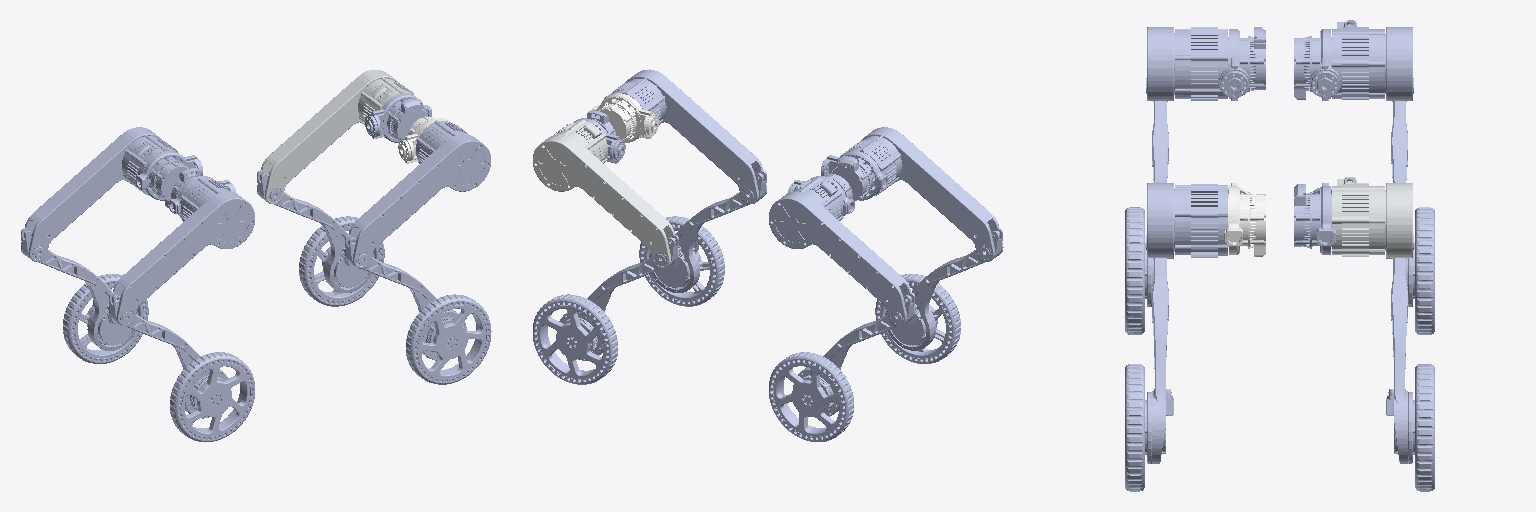
robot.urdf — dogurdf:
<?xml version="1.0" encoding="utf-8"?>
<!-- This URDF was automatically created by SolidWorks to URDF Exporter! Originally created by Stephen Brawner (brawner@gmail.com) 
     Commit Version: 1.6.0-4-g7f85cfe  Build Version: 1.6.7995.38578
     For more information, please see http://wiki.ros.org/sw_urdf_exporter -->
<robot name="dogurdf">
  <mujoco>
    <compiler 
    meshdir="../meshes" 
    balanceinertia="true" 
    discardvisual="false" />
  </mujoco>
  <link name="base_link">
    <inertial>
      <origin
        xyz="-1.3976E-10 -4.0594E-11 -4.0153E-07"
        rpy="0 0 0" />
      <mass
        value="1.97" />
      <inertia
        ixx="0.0145439"
        ixy="0.0000000"
        ixz="0.0000000"
        iyy="0.1226355"
        iyz="0.0000000"
        izz="0.1326036" />
    </inertial>
    <visual>
      <origin
        xyz="0 0 0"
        rpy="0 0 0" />
      <geometry>
        <mesh
          filename="../meshes/base_link.STL" />
      </geometry>
      <material
        name="">
        <color
          rgba="0.75294 0.75294 0.75294 1" />
      </material>
    </visual>
    <collision>
      <origin
        xyz="0 0 0"
        rpy="0 0 0" />
      <geometry>
        <box size="0.474 0.25 0.12"/>
      </geometry>
    </collision>
  </link>
  <link
    name="FL_hip_link">
    <inertial>
      <origin
        xyz="-0.00965589810794835 -0.00827404124492533 0.00195207626256536"
        rpy="0 0 0" />
      <mass
        value="0.297183995023675" />
      <inertia
        ixx="0.0004086"
        ixy="-0.0000025"
        ixz="0.0000000"
        iyy="0.0007925"
        iyz="0.0000258"
        izz="0.0006789" />
    </inertial>
    <visual>
      <origin
        xyz="0 0 0"
        rpy="0 0 0" />
      <geometry>
        <mesh
          filename="../meshes/FL_hip_link.STL" />
      </geometry>
      <material
        name="">
        <color
          rgba="0.792156862745098 0.819607843137255 0.933333333333333 1" />
      </material>
    </visual>
    <collision>
      <origin xyz="0 -0.02 0" rpy="1.5708 0 0"/>
      <geometry>
        <cylinder length="0.06" radius="0.0615"/>
      </geometry>
    </collision>
  </link>
  <joint
    name="FL_hip_joint"
    type="revolute">
    <origin
      xyz="0.3265 0.08 0"
      rpy="0 0 0" />
    <parent
      link="base_link" />
    <child
      link="FL_hip_link" />
    <axis
      xyz="1 0 0" />
    <limit
      lower="-0.6"
      upper="0.6"
      effort="300"
      velocity="14" />
  </joint>
  <link
    name="FL_thigh_link">
    <inertial>
      <origin
        xyz="-0.00631688095134576 -0.0499255635102069 -0.0351010430050288"
        rpy="0 0 0" />
      <mass
        value="1.70741357089892" />
      <inertia
        ixx="0.0228508"
        ixy="-0.0000682"
        ixz="-0.0018050"
        iyy="0.0175783"
        iyz="0.0000058"
        izz="0.0091144" />
    </inertial>
    <visual>
      <origin
        xyz="0 0 0"
        rpy="0 0 0" />
      <geometry>
        <mesh
          filename="../meshes/FL_thigh_link.STL" />
      </geometry>
      <material
        name="">
        <color
          rgba="0.898039215686275 0.917647058823529 0.929411764705882 1" />
      </material>
    </visual>
    <collision>
      <origin xyz="0 -0.046 0" rpy="1.5708 0 0"/>
      <geometry>
        <cylinder length="0.145" radius="0.07"/>
      </geometry>
    </collision>
    <collision>
      <origin xyz="-0.03 0.0 -0.145" rpy="0 0 0"/>
      <geometry>
        <box size="0.064 0.045 0.30"/>
      </geometry>
    </collision>
  </link>
  <joint
    name="FL_thigh_joint"
    type="revolute">
    <origin
      xyz="0 0.1308 0"
      rpy="0 1.0197 0" />
    <parent
      link="FL_hip_link" />
    <child
      link="FL_thigh_link" />
    <axis
      xyz="0 1 0" />
    <limit
      lower="-0.7"
      upper="1.75"
      effort="300"
      velocity="14" />
  </joint>
  <link
    name="FL_calf_link">
    <inertial>
      <origin
        xyz="-0.061645 0.0071922 -0.21635"
        rpy="0 0 0" />
      <mass
        value="0.47973" />
      <inertia
        ixx="0.0086128"
        ixy="0.00015398"
        ixz="-0.0027346"
        iyy="0.0098559"
        iyz="0.00036852"
        izz="0.0014602" />
    </inertial>
    <visual>
      <origin
        xyz="0 0 0"
        rpy="0 0 0" />
      <geometry>
        <mesh
          filename="../meshes/FL_calf_link.STL" />
      </geometry>
      <material
        name="">
        <color
          rgba="0.79216 0.81961 0.93333 1" />
      </material>
    </visual>
    <collision>
      <origin xyz="-0.01 -0. -0.12" rpy="0 -0.0 0"/>
      <geometry>
        <cylinder length="0.15" radius="0.016"/>
      </geometry>
    </collision>
    <collision>
      <origin xyz="-0.045 0.0 -0.240" rpy="0 0.45 0"/>
      <geometry>
        <cylinder length="0.13" radius="0.015"/>
      </geometry>
    </collision>
    <collision>
      <origin rpy="1.5707963267948966 0 0" xyz="-0.105 0.0 -0.32" />
      <geometry>
        <cylinder length="0.045" radius="0.065" />
      </geometry>
    </collision>
  </link>
  <joint
    name="FL_calf_joint"
    type="revolute">
    <origin
      xyz="0 0 -0.34"
      rpy="3.1416 -1.0861 -3.1416" />
    <parent
      link="FL_thigh_link" />
    <child
      link="FL_calf_link" />
    <axis
      xyz="0 1 0" />
    <limit
      lower="-1"
      upper="0.35"
      effort="300"
      velocity="14" />
  </joint>
  <link
    name="FL_wheel_link">
    <inertial>
      <origin
        xyz="-1.56972520676257E-06 0.00208084771131467 9.86439635253245E-08"
        rpy="0 0 0" />
      <mass
        value="0.581037183184941" />
      <inertia
        ixx="0.00246783459869321"
        ixy="-1.2243566895124E-09"
        ixz="-1.10058304932711E-08"
        iyy="0.00482400804653926"
        iyz="-7.9405246712479E-10"
        izz="0.00246789059735698" />
    </inertial>
    <visual>
      <origin
        xyz="0 0 0"
        rpy="0 0 0" />
      <geometry>
        <mesh
          filename="../meshes/FL_wheel_link.STL" />
      </geometry>
      <material
        name="">
        <color
          rgba="0.792156862745098 0.819607843137255 0.933333333333333 1" />
      </material>
    </visual>
    <collision>
        <origin rpy="1.5707963267948966 0 0" xyz="0 0 0" /> 
      <geometry>
        <cylinder length="0.04" radius="0.113" />
      </geometry>
    </collision>
  </link>
  <joint
    name="FL_wheel_joint"
    type="revolute">
    <origin
      xyz="-0.10583 0.045 -0.32311"
      rpy="0 -0.21627 0" />
    <parent
      link="FL_calf_link" />
    <child
      link="FL_wheel_link" />
    <axis
      xyz="0 1 0" />
    <limit
      lower="-100000000000"
      upper="100000000000"
      effort="300"
      velocity="14" />
  </joint>
  <link
    name="FR_hip_link">
    <inertial>
      <origin
        xyz="-0.00965589786976583 0.00827404136545233 -0.00195207632292938"
        rpy="0 0 0" />
      <mass
        value="0.297183996282878" />
      <inertia
        ixx="0.0004086"
        ixy="-0.0000025"
        ixz="0.0000000"
        iyy="0.0007925"
        iyz="0.0000258"
        izz="0.0006789" />
    </inertial>
    <visual>
      <origin
        xyz="0 0 0"
        rpy="3.1415926535 0 0" />
      <geometry>
        <mesh
          filename="../meshes/FL_hip_link.STL"/>
      </geometry>
      <material
        name="">
        <color
          rgba="1 1 1 1" />
      </material>
    </visual>
    <collision>
      <origin xyz="0 0.02 0" rpy="1.5708 0 0"/>
      <geometry>
        <cylinder length="0.06" radius="0.0615"/>
      </geometry>
    </collision>
  </link>
  <joint
    name="FR_hip_joint"
    type="revolute">
    <origin
      xyz="0.3265 -0.08 0"
      rpy="0 0 0" />
    <parent
      link="base_link" />
    <child
      link="FR_hip_link" />
    <axis
      xyz="1 0 0" />
    <limit
      lower="-0.6"
      upper="0.6"
      effort="300"
      velocity="14" />
  </joint>
  <link
    name="FR_thigh_link">
    <inertial>
      <origin
        xyz="-0.00575184316335054 0.0497359497305254 -0.0354219064162341"
        rpy="0 0 0" />
      <mass
        value="1.69996815149575" />
      <inertia
        ixx="0.0227843"
        ixy="-0.0000178"
        ixz="-0.0018037"
        iyy="0.0175421"
        iyz="0.0000158"
        izz="0.0090135" />
    </inertial>
    <visual>
      <origin
        xyz="0 0 0"
        rpy="0 0 0" />
      <geometry>
        <mesh
          filename="../meshes/FR_thigh_link.STL"/>
      </geometry>
      <material
        name="">
        <color
          rgba="0.792156862745098 0.819607843137255 0.933333333333333 1" />
      </material>
    </visual>
    <collision>
      <origin xyz="0 0.046 0" rpy="1.5708 0 0"/>
      <geometry>
        <cylinder length="0.145" radius="0.07"/>
      </geometry>
    </collision>
    <collision>
      <origin xyz="-0.03 0.0 -0.145" rpy="0 0 0"/>
      <geometry>
        <box size="0.064 0.045 0.30"/>
      </geometry>
    </collision>
  </link>
  <joint
    name="FR_thigh_joint"
    type="revolute">
    <origin
      xyz="0 -0.1308 0"
      rpy="0 1.0197 0" />
    <parent
      link="FR_hip_link" />
    <child
      link="FR_thigh_link" />
    <axis
      xyz="0 1 0" />
    <limit
      lower="-0.7"
      upper="1.75"
      effort="300"
      velocity="14" />
  </joint>
  <link
    name="FR_calf_link">
    <inertial>
      <origin
        xyz="-0.0616454752995266 -0.00719220849829397 -0.216352800802631"
        rpy="0 0 0" />
      <mass
        value="0.479729252466065" />
      <inertia
        ixx="0.00861284482929144"
        ixy="-0.000153987105669256"
        ixz="-0.00273465148062052"
        iyy="0.00985591861684721"
        iyz="-0.000368518862821149"
        izz="0.00146022937269271" />
    </inertial>
    <visual>
      <origin
        xyz="0 0 0"
        rpy="0 0 0" />
      <geometry>
        <mesh
          filename="../meshes/FR_calf_link.STL"/>
      </geometry>
      <material
        name="">
        <color
          rgba="0.792156862745098 0.819607843137255 0.933333333333333 1" />
      </material>
    </visual>
    <collision>
      <origin xyz="-0.01 -0. -0.12" rpy="0 -0.0 0"/>
      <geometry>
        <cylinder length="0.15" radius="0.016"/>
      </geometry>
    </collision>
    <collision>
      <origin xyz="-0.045 0.0 -0.240" rpy="0 0.45 0"/>
      <geometry>
        <cylinder length="0.13" radius="0.015"/>
      </geometry>
    </collision>
    <collision>
      <origin rpy="1.5707963267948966 0 0" xyz="-0.105 0.0 -0.32" />
      <geometry>
        <cylinder length="0.045" radius="0.065" />
      </geometry>
    </collision>
  </link>
  <joint
    name="FR_calf_joint"
    type="revolute">
    <origin
      xyz="0 0 -0.34"
      rpy="-3.1416 -1.0861 3.1416" />
    <parent
      link="FR_thigh_link" />
    <child
      link="FR_calf_link" />
    <axis
      xyz="0 1 0" />
    <limit
      lower="-1"
      upper="0.35"
      effort="300"
      velocity="14" />
  </joint>
  <link
    name="FR_wheel_link">
    <inertial>
      <origin
        xyz="3.51521598884741E-07 -0.00208095192357272 7.8699894007217E-07"
        rpy="0 0 0" />
      <mass
        value="0.581021265719934" />
      <inertia
        ixx="0.00246783637274413"
        ixy="-7.02926775147224E-11"
        ixz="-2.62740063571845E-08"
        iyy="0.0048239139968357"
        iyz="-5.59695771698466E-10"
        izz="0.00246779369425121" />
    </inertial>
    <visual>
      <origin
        xyz="0 0 0"
        rpy="0 0 0" />
      <geometry>
        <mesh
          filename="../meshes/FR_wheel_link.STL"/>
      </geometry>
      <material
        name="">
        <color
          rgba="0.792156862745098 0.819607843137255 0.933333333333333 1" />
      </material>
    </visual>
    <collision>
        <origin rpy="1.5707963267948966 0 0" xyz="0 0 0" /> 
      <geometry>
        <cylinder length="0.04" radius="0.113" />
      </geometry>
    </collision>
  </link>
  <joint
    name="FR_wheel_joint"
    type="revolute">
    <origin
      xyz="-0.10583 -0.045 -0.32311"
      rpy="3.1416 1.2625 3.1416" />
    <parent
      link="FR_calf_link" />
    <child
      link="FR_wheel_link" />
    <axis
      xyz="0 1 0" />
    <limit
      lower="-100000000000"
      upper="100000000000"
      effort="300"
      velocity="14" />
  </joint>
  <link
    name="RL_hip_link">
    <inertial>
      <origin
        xyz="0.0096559 -0.008274 -0.0019521"
        rpy="0 0 0" />
      <mass
        value="0.29718" />
      <inertia
        ixx="0.0004086"
        ixy="0.0000025"
        ixz="0.0000000"
        iyy="0.0007925"
        iyz="-0.0000258"
        izz="0.0006789" />
    </inertial>
    <visual>
      <origin
        xyz="0 0 0"
        rpy="0 3.1415926535 0" />
      <geometry>
        <mesh
          filename="../meshes/FL_hip_link.STL"/>
      </geometry>
      <material
        name="">
        <color
          rgba="0.79216 0.81961 0.93333 1" />
      </material>
    </visual>
    <collision>
      <origin xyz="0 -0.02 0" rpy="1.5708 0 0"/>
      <geometry>
        <cylinder length="0.06" radius="0.0615"/>
      </geometry>
    </collision>
  </link>
  <joint
    name="RL_hip_joint"
    type="revolute">
    <origin
      xyz="-0.3265 0.08 0"
      rpy="0 0 0" />
    <parent
      link="base_link" />
    <child
      link="RL_hip_link" />
    <axis
      xyz="1 0 0" />
    <limit
      lower="-0.6"
      upper="0.6"
      effort="300"
      velocity="14" />
  </joint>
  <link
    name="RL_thigh_link">
    <inertial>
      <origin
        xyz="-0.00544375491725158 -0.0499255635106056 -0.035281862832855"
        rpy="0 0 0" />
      <mass
        value="1.70741357098585" />
      <inertia
        ixx="0.0228508"
        ixy="0.0000632"
        ixz="-0.0018050"
        iyy="0.0175783"
        iyz="-0.0000173"
        izz="0.0091144" />
    </inertial>
    <visual>
      <origin
        xyz="0 0 0"
        rpy="0 0 0" />
      <geometry>
        <mesh
          filename="../meshes/FL_thigh_link.STL" />
      </geometry>
      <material
        name="">
        <color
          rgba="0.792156862745098 0.819607843137255 0.933333333333333 1" />
      </material>
    </visual>
    <collision>
      <origin xyz="0 -0.046 0" rpy="1.5708 0 0"/>
      <geometry>
        <cylinder length="0.145" radius="0.07"/>
      </geometry>
    </collision>
    <collision>
      <origin xyz="-0.03 0.0 -0.145" rpy="0 0 0"/>
      <geometry>
        <box size="0.064 0.045 0.30"/>
      </geometry>
    </collision>
  </link>
  <joint
    name="RL_thigh_joint"
    type="revolute">
    <origin
      xyz="0 0.1308 0"
      rpy="0 1.0197 0" />
    <parent
      link="RL_hip_link" />
    <child
      link="RL_thigh_link" />
    <axis
      xyz="0 1 0" />
    <limit
      lower="-0.7"
      upper="1.75"
      effort="300"
      velocity="14" />
  </joint>
  <link
    name="RL_calf_link">
    <inertial>
      <origin
        xyz="-0.061645 0.0071922 -0.21635"
        rpy="0 0 0" />
      <mass
        value="0.47973" />
      <inertia
        ixx="0.0086128"
        ixy="0.00015398"
        ixz="-0.0027346"
        iyy="0.0098559"
        iyz="0.00036852"
        izz="0.0014602" />
    </inertial>
    <visual>
      <origin
        xyz="0 0 0"
        rpy="0 0 0" />
      <geometry>
        <mesh
          filename="../meshes/FL_calf_link.STL" />
      </geometry>
      <material
        name="">
        <color
          rgba="0.79216 0.81961 0.93333 1" />
      </material>
    </visual>
    <collision>
      <origin xyz="-0.01 -0. -0.12" rpy="0 -0.0 0"/>
      <geometry>
        <cylinder length="0.15" radius="0.016"/>
      </geometry>
    </collision>
    <collision>
      <origin xyz="-0.045 0.0 -0.240" rpy="0 0.45 0"/>
      <geometry>
        <cylinder length="0.13" radius="0.015"/>
      </geometry>
    </collision>
    <collision>
      <origin rpy="1.5707963267948966 0 0" xyz="-0.105 0.0 -0.32" />
      <geometry>
        <cylinder length="0.045" radius="0.065" />
      </geometry>
    </collision>
  </link>
  <joint
    name="RL_calf_joint"
    type="revolute">
    <origin
      xyz="0 0 -0.34"
      rpy="3.1416 -1.0861 -3.1416" />
    <parent
      link="RL_thigh_link" />
    <child
      link="RL_calf_link" />
    <axis
      xyz="0 1 0" />
    <limit
      lower="-1"
      upper="0.35"
      effort="300"
      velocity="14" />
  </joint>
  <link
    name="RL_wheel_link">
    <inertial>
      <origin
        xyz="9.84841571627371E-08 0.00208085385826456 1.56943623175199E-06"
        rpy="0 0 0" />
      <mass
        value="0.581036517961266" />
      <inertia
        ixx="0.00246788913238713"
        ixy="-7.24902904844914E-10"
        ixz="8.03028343983585E-09"
        iyy="0.00482400509842862"
        iyz="1.30416595694791E-09"
        izz="0.00246783309773131" />
    </inertial>
    <visual>
      <origin
        xyz="0 0 0"
        rpy="0 0 0" />
      <geometry>
        <mesh
          filename="../meshes/FL_wheel_link.STL" />
      </geometry>
      <material
        name="">
        <color
          rgba="0.792156862745098 0.819607843137255 0.933333333333333 1" />
      </material>
    </visual>
    <collision>
        <origin rpy="1.5707963267948966 0 0" xyz="0 0 0" /> 
      <geometry>
        <cylinder length="0.04" radius="0.113" />
      </geometry>
    </collision>
  </link>
  <joint
    name="RL_wheel_joint"
    type="revolute">
    <origin
      xyz="-0.10583 0.045 -0.32311"
      rpy="-3.1416 1.5251 -3.1416" />
    <parent
      link="RL_calf_link" />
    <child
      link="RL_wheel_link" />
    <axis
      xyz="0 1 0" />
    <limit
      lower="-100000000000"
      upper="100000000000"
      effort="300"
      velocity="14" />
  </joint>
  <link
    name="RR_hip_link">
    <inertial>
      <origin
        xyz="0.00965589779417608 0.00827404137103517 0.0019520763137734"
        rpy="0 0 0" />
      <mass
        value="0.297183996036057" />
      <inertia
        ixx="0.0004086"
        ixy="-0.0000025"
        ixz="0.0000000"
        iyy="0.0007925"
        iyz="-0.0000258"
        izz="0.0006789" />
    </inertial>
    <visual>
      <origin
        xyz="0 0 0"
        rpy="3.1415926535 3.1415926535 0" />
      <geometry>
        <mesh
          filename="../meshes/FL_hip_link.STL"/>
      </geometry>
      <material
        name="">
        <color
          rgba="0.792156862745098 0.819607843137255 0.933333333333333 1" />
      </material>
    </visual>
    <collision>
      <origin xyz="0 0.02 0" rpy="1.5708 0 0"/>
      <geometry>
        <cylinder length="0.06" radius="0.0615"/>
      </geometry>
    </collision>
  </link>
  <joint
    name="RR_hip_joint"
    type="revolute">
    <origin
      xyz="-0.3265 -0.08 0"
      rpy="0 0 0" />
    <parent
      link="base_link" />
    <child
      link="RR_hip_link" />
    <axis
      xyz="1 0 0" />
    <limit
      lower="-0.6"
      upper="0.6"
      effort="300"
      velocity="14" />
  </joint>
  <link
    name="RR_thigh_link">
    <inertial>
      <origin
        xyz="-0.00615816312036055 0.0499255827326539 -0.0348427707937902"
        rpy="0 0 0" />
      <mass
        value="1.70741309533396" />
      <inertia
        ixx="0.0228793"
        ixy="0.0000425"
        ixz="-0.0017906"
        iyy="0.0175782"
        iyz="-0.0000476"
        izz="0.0090860" />
    </inertial>
    <visual>
      <origin
        xyz="0 0 0"
        rpy="0 0 0" />
      <geometry>
        <mesh
          filename="../meshes/FR_thigh_link.STL"/>
      </geometry>
      <material
        name="">
        <color
          rgba="0.792156862745098 0.819607843137255 0.933333333333333 1" />
      </material>
    </visual>
    <collision>
      <origin xyz="0 0.046 0" rpy="1.5708 0 0"/>
      <geometry>
        <cylinder length="0.145" radius="0.07"/>
      </geometry>
    </collision>
    <collision>
      <origin xyz="-0.03 0.0 -0.145" rpy="0 0 0"/>
      <geometry>
        <box size="0.064 0.045 0.30"/>
      </geometry>
    </collision>
  </link>
  <joint
    name="RR_thigh_joint"
    type="revolute">
    <origin
      xyz="0 -0.1308 0"
      rpy="0 1.0197 0" />
    <parent
      link="RR_hip_link" />
    <child
      link="RR_thigh_link" />
    <axis
      xyz="0 1 0" />
    <limit
      lower="-0.7"
      upper="1.75"
      effort="300"
      velocity="14" />
  </joint>
  <link
    name="RR_calf_link">
    <inertial>
      <origin
        xyz="-0.061645475299535 -0.0071922084983112 -0.216352800802562"
        rpy="0 0 0" />
      <mass
        value="0.479729252466076" />
      <inertia
        ixx="0.0086128448292915"
        ixy="-0.000153987105669256"
        ixz="-0.00273465148062052"
        iyy="0.00985591861684729"
        iyz="-0.000368518862821151"
        izz="0.00146022937269271" />
    </inertial>
    <visual>
      <origin
        xyz="0 0 0"
        rpy="0 0 0" />
      <geometry>
        <mesh
          filename="../meshes/FR_calf_link.STL"/>
      </geometry>
      <material
        name="">
        <color
          rgba="0.792156862745098 0.819607843137255 0.933333333333333 1" />
      </material>
    </visual>
    <collision>
      <origin xyz="-0.01 -0. -0.12" rpy="0 -0.0 0"/>
      <geometry>
        <cylinder length="0.15" radius="0.016"/>
      </geometry>
    </collision>
    <collision>
      <origin xyz="-0.045 0.0 -0.240" rpy="0 0.45 0"/>
      <geometry>
        <cylinder length="0.13" radius="0.015"/>
      </geometry>
    </collision>
    <collision>
      <origin rpy="1.5707963267948966 0 0" xyz="-0.105 0.0 -0.32" />
      <geometry>
        <cylinder length="0.045" radius="0.065" />
      </geometry>
    </collision>
  </link>
  <joint
    name="RR_calf_joint"
    type="revolute">
    <origin
      xyz="0 0 -0.34"
      rpy="-3.1416 -1.0861 3.1416" />
    <parent
      link="RR_thigh_link" />
    <child
      link="RR_calf_link" />
    <axis
      xyz="0 1 0" />
    <limit
      lower="-1"
      upper="0.35"
      effort="300"
      velocity="14" />
  </joint>
  <link
    name="RR_wheel_link">
    <inertial>
      <origin
        xyz="-5.05762929647879E-07 -0.00208095192273577 6.97939656402191E-07"
        rpy="0 0 0" />
      <mass
        value="0.581021265798313" />
      <inertia
        ixx="0.00246782711866112"
        ixy="4.49517116290082E-10"
        ixz="3.16169832240056E-08"
        iyy="0.00482391399754102"
        iyz="-3.40693493456175E-10"
        izz="0.00246780294905386" />
    </inertial>
    <visual>
      <origin
        xyz="0 0 0"
        rpy="0 0 0" />
      <geometry>
        <mesh
          filename="../meshes/FR_wheel_link.STL"/>
      </geometry>
      <material
        name="">
        <color
          rgba="0.792156862745098 0.819607843137255 0.933333333333333 1" />
      </material>
    </visual>
    <collision>
        <origin rpy="1.5707963267948966 0 0" xyz="0 0 0" /> 
      <geometry>
        <cylinder length="0.04" radius="0.113" />
      </geometry>
    </collision>
  </link>
  <joint
    name="RR_wheel_joint"
    type="revolute">
    <origin
      xyz="-0.10583 -0.045 -0.32311"
      rpy="0 1.329 0" />
    <parent
      link="RR_calf_link" />
    <child
      link="RR_wheel_link" />
    <axis
      xyz="0 1 0" />
    <limit
      lower="-100000000000"
      upper="100000000000"
      effort="300"
      velocity="14" />
  </joint>
</robot>

--- What the picture shows (computed from the rendered views, not written in the file) ---
Views: 3 orthographic renders of the robot side by side, from view 1: azimuth 30°, elevation 25°; view 2: azimuth 150°, elevation 25°; view 3: azimuth 270°, elevation 25°.
Model dogurdf with 17 links and 16 joints (16 revolute), rooted at base_link, posed every joint at zero.
Links seen in each view (by area): view 1: FR_thigh_link, RR_thigh_link, RL_thigh_link, FL_thigh_link, FR_wheel_link, RR_wheel_link, RL_calf_link, FL_calf_link, FL_wheel_link, RL_wheel_link, FL_hip_link, FR_calf_link (+4 smaller); view 2: FL_thigh_link, RL_thigh_link, RR_thigh_link, FR_thigh_link, RL_wheel_link, FL_wheel_link, RR_calf_link, FR_calf_link, FR_wheel_link, RR_wheel_link, RR_hip_link, RL_calf_link (+4 smaller); view 3: FL_thigh_link, FR_thigh_link, RL_thigh_link, RR_thigh_link, FL_calf_link, FR_calf_link, RR_hip_link, RL_hip_link, RL_wheel_link, RR_wheel_link, FL_wheel_link, FR_wheel_link (+4 smaller).
Link boxes in pixels (x1,y1,x2,y2): FR_thigh_link: (345,120,490,268); RR_thigh_link: (109,178,254,325); RL_thigh_link: (21,127,177,261); FL_thigh_link: (257,70,413,203); FR_wheel_link: (406,294,491,384); RR_wheel_link: (170,352,254,441); RL_calf_link: (21,228,138,350); FL_calf_link: (257,170,374,292); FL_wheel_link: (299,216,384,306); RL_wheel_link: (63,274,148,363); FL_hip_link: (365,93,431,142); FR_calf_link: (345,235,466,360); FL_thigh_link: (533,119,678,268); RL_thigh_link: (769,177,914,325); RR_thigh_link: (840,127,1003,261); FR_thigh_link: (604,69,766,203); RL_wheel_link: (769,352,853,441); FL_wheel_link: (533,294,617,384); RR_calf_link: (885,228,1002,350); FR_calf_link: (649,170,766,292); FR_wheel_link: (639,216,724,306); RR_wheel_link: (875,274,960,363); RR_hip_link: (821,151,887,200); RL_calf_link: (793,292,914,416); FL_thigh_link: (1332,177,1412,257); FR_thigh_link: (1147,183,1227,257); RL_thigh_link: (1332,20,1412,100); RR_thigh_link: (1147,27,1227,100); FL_calf_link: (1386,235,1414,463); FR_calf_link: (1145,235,1173,463); RR_hip_link: (1219,27,1265,100); RL_hip_link: (1294,29,1340,100); RL_wheel_link: (1415,207,1434,334); RR_wheel_link: (1125,207,1144,334); FL_wheel_link: (1415,364,1434,491); FR_wheel_link: (1125,364,1144,491).
Size in the robot's own frame: 1.05 by 0.5466 by 0.6191 metres.
Meshes: 8 distinct files referenced, 16 mesh visuals loaded (7 binary STL); not drawn: 1 (reference not matched to a file when rendering).
